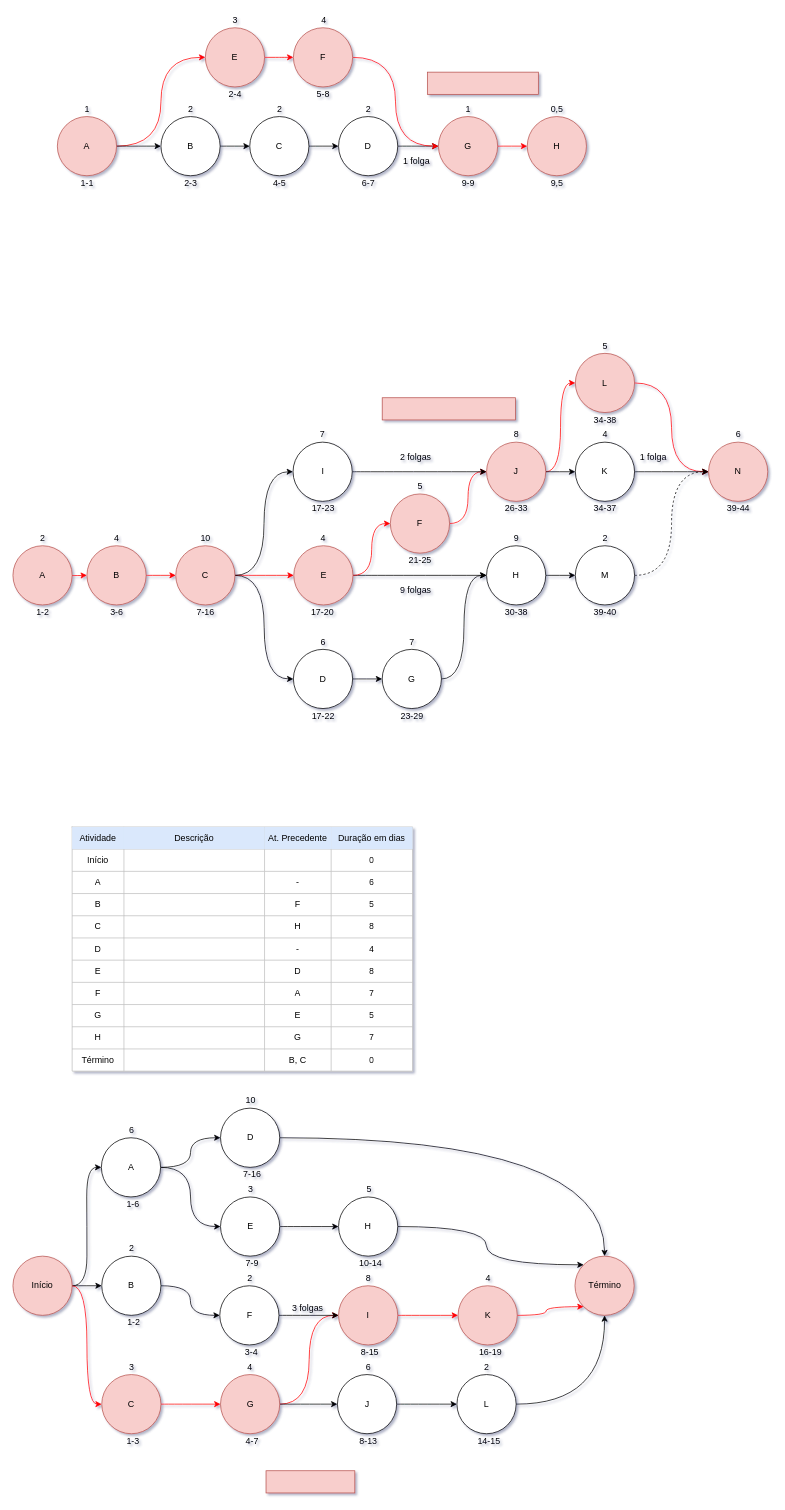
This 785x1510 diagram has some shape labels left out. The shapes that lost their labels are listed below. From the top down, each one's centre as x and y in pixels, then its label:
the point at 482,82: Caminho Crítico: 9,5 dias Folgas: 0
the point at 448,408: Caminho Crítico: 44 semanas Folgas: 0
the point at 310,1481: Caminho Crítico: 19 Folgas: 0
